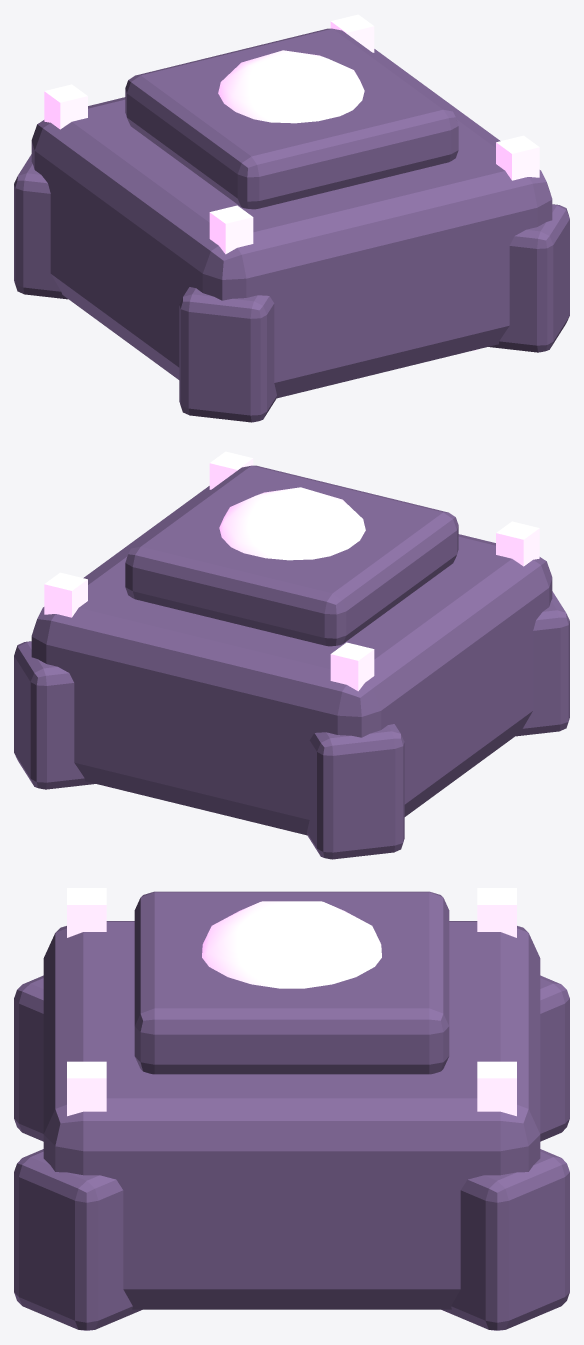
The model's file is tank.glb.
The picture shows the model from 3 angles, top to bottom: view 1: azimuth 30°, elevation 25°; view 2: azimuth 150°, elevation 25°; view 3: azimuth 270°, elevation 25°; orthographic projection. The views are drawn at different scales.
Visible parts, largest first — view 1: body, roof, corner, core, corner.002, corner.001, corner_glow, corner_glow.002, corner_glow.001, corner_glow.003; view 2: body, roof, corner.001, core, corner.003, corner, corner_glow.001, corner_glow.003, corner_glow, corner_glow.002; view 3: body, roof, corner.002, corner.003, core, corner, corner.001, corner_glow.002, corner_glow.003, corner_glow, corner_glow.001.
Boxes of the visible parts, bbox=[...] form: body: bbox=[31, 49, 552, 398]; roof: bbox=[125, 28, 458, 209]; corner: bbox=[179, 287, 276, 422]; core: bbox=[218, 50, 364, 123]; corner.002: bbox=[488, 204, 569, 352]; corner.001: bbox=[14, 154, 67, 299]; corner_glow: bbox=[209, 205, 253, 254]; corner_glow.002: bbox=[496, 135, 539, 180]; corner_glow.001: bbox=[44, 84, 87, 129]; corner_glow.003: bbox=[330, 14, 374, 52]; body: bbox=[31, 486, 552, 835]; roof: bbox=[125, 465, 458, 646]; corner.001: bbox=[307, 724, 404, 859]; core: bbox=[219, 487, 365, 560]; corner.003: bbox=[14, 641, 95, 789]; corner: bbox=[516, 591, 569, 736]; corner_glow.001: bbox=[330, 642, 374, 691]; corner_glow.003: bbox=[44, 572, 87, 617]; corner_glow: bbox=[496, 521, 539, 566]; corner_glow.002: bbox=[209, 451, 253, 489]; body: bbox=[43, 921, 540, 1309]; roof: bbox=[134, 891, 449, 1074]; corner.002: bbox=[14, 1149, 142, 1330]; corner.003: bbox=[441, 1149, 569, 1330]; core: bbox=[202, 901, 381, 988]; corner: bbox=[14, 975, 43, 1141]; corner.001: bbox=[540, 975, 569, 1141]; corner_glow.002: bbox=[67, 1061, 106, 1116]; corner_glow.003: bbox=[477, 1061, 516, 1116]; corner_glow: bbox=[67, 888, 106, 937]; corner_glow.001: bbox=[477, 888, 516, 937].
Size of the model in its own units: 1.68 by 1.1 by 1.68.
